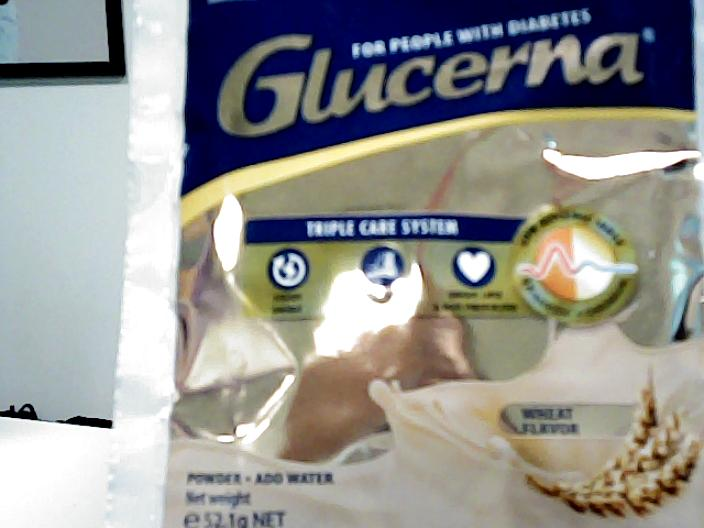Adult_Milk_0-99g_Halal_NonHealthy: (132, 1, 700, 528)
